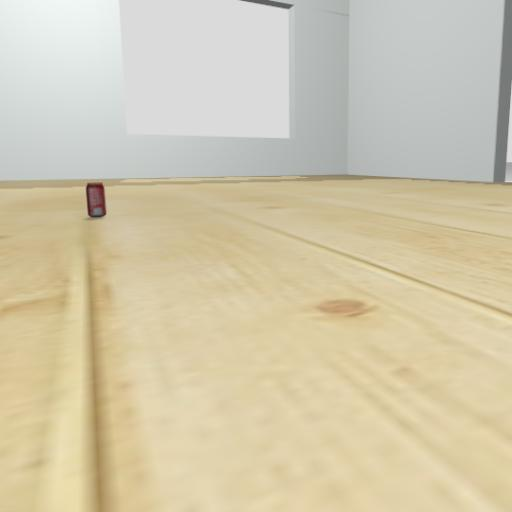COCA: (70, 162, 119, 240)
